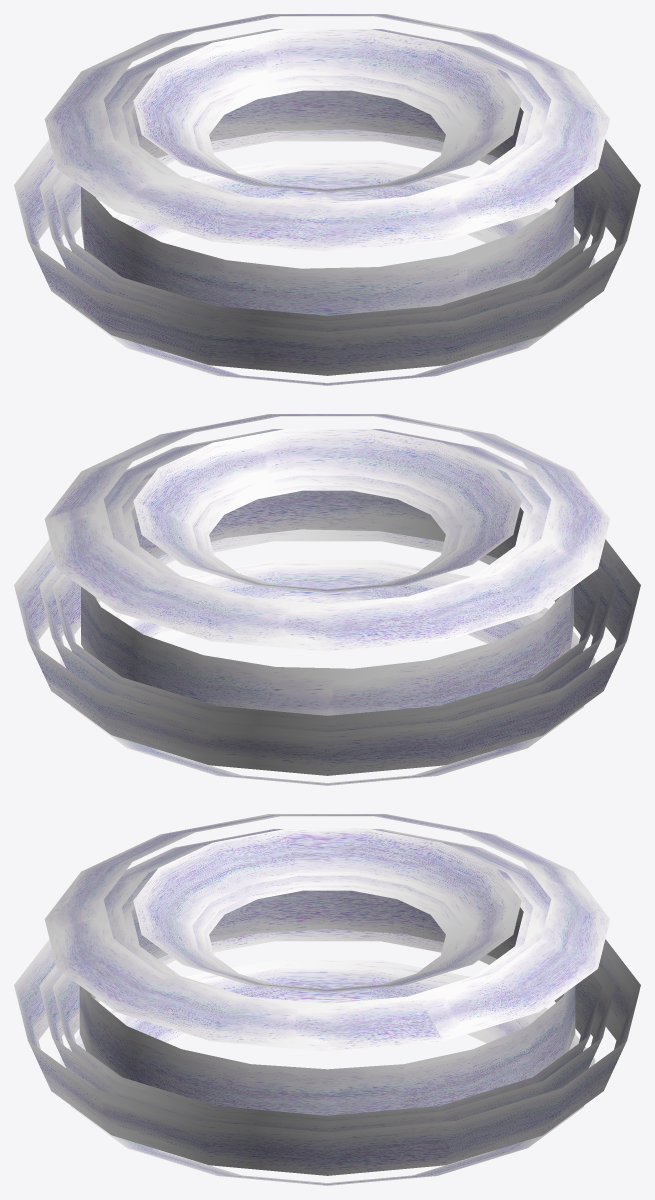
File: transition-efect-01.glb
The picture shows the model from 3 angles, top to bottom: view 1: azimuth 30°, elevation 25°; view 2: azimuth 150°, elevation 25°; view 3: azimuth 270°, elevation 25°; orthographic projection.
Parts seen in each view (by area): view 1: TransitionEfect_01; view 2: TransitionEfect_01; view 3: TransitionEfect_01.
Boxes of the visible parts, bbox=[...] form: TransitionEfect_01: bbox=[14, 14, 640, 385]; TransitionEfect_01: bbox=[14, 414, 640, 785]; TransitionEfect_01: bbox=[14, 814, 640, 1185].
Size of the model in its own units: 6.45 by 2.11 by 6.49.
1 material, 1 textured.
